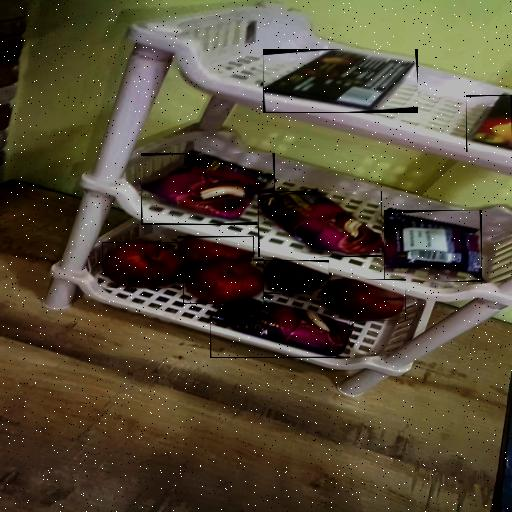Apple: (102, 242, 188, 288), (183, 259, 264, 304), (322, 279, 406, 321), (261, 260, 329, 294), (177, 236, 254, 265)
Choco Fills: (263, 49, 418, 113), (466, 95, 512, 152)
Choco Pie: (141, 153, 275, 225), (258, 191, 382, 257), (210, 300, 350, 358), (384, 210, 482, 282)
